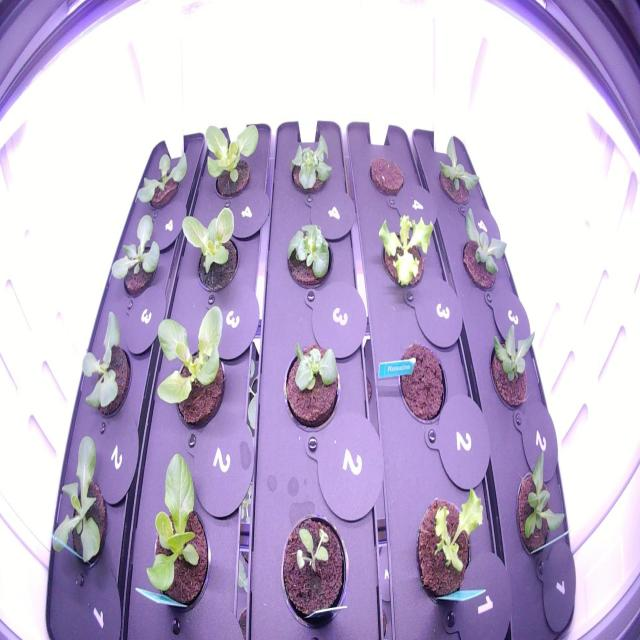germination: (278, 508, 358, 633)
pod: (390, 335, 452, 432), (365, 148, 408, 204)
young: (135, 447, 219, 621), (144, 296, 232, 439), (44, 419, 110, 581), (503, 438, 571, 568), (172, 198, 255, 301), (72, 305, 134, 426), (278, 330, 345, 435), (481, 310, 542, 422), (194, 112, 265, 203), (105, 207, 165, 302), (456, 201, 510, 298), (132, 139, 193, 218), (282, 212, 336, 297), (431, 132, 484, 212), (284, 130, 336, 199)
